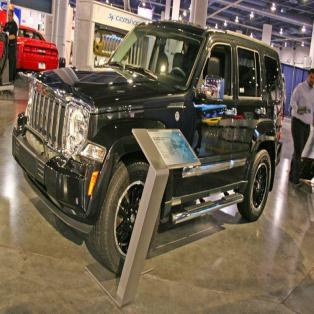Auto: (10, 20, 284, 275)
